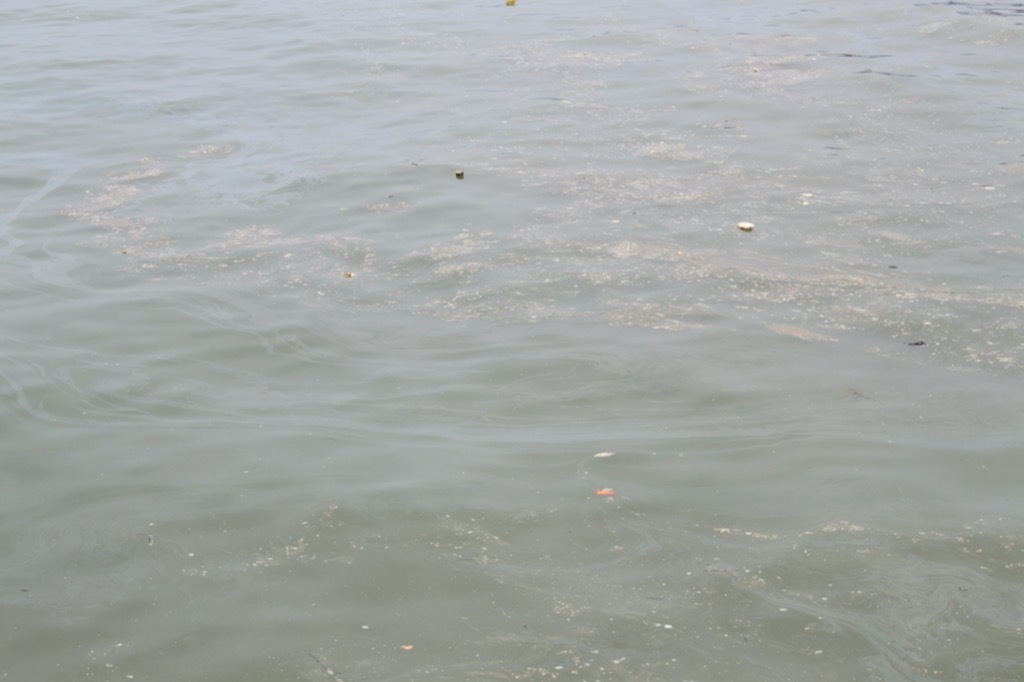organic: (898, 333, 932, 354), (883, 257, 905, 278), (403, 154, 427, 173), (394, 636, 418, 654), (382, 188, 398, 205)
plastic: (584, 474, 634, 507), (729, 213, 765, 242), (445, 162, 478, 190), (498, 1, 523, 14)
